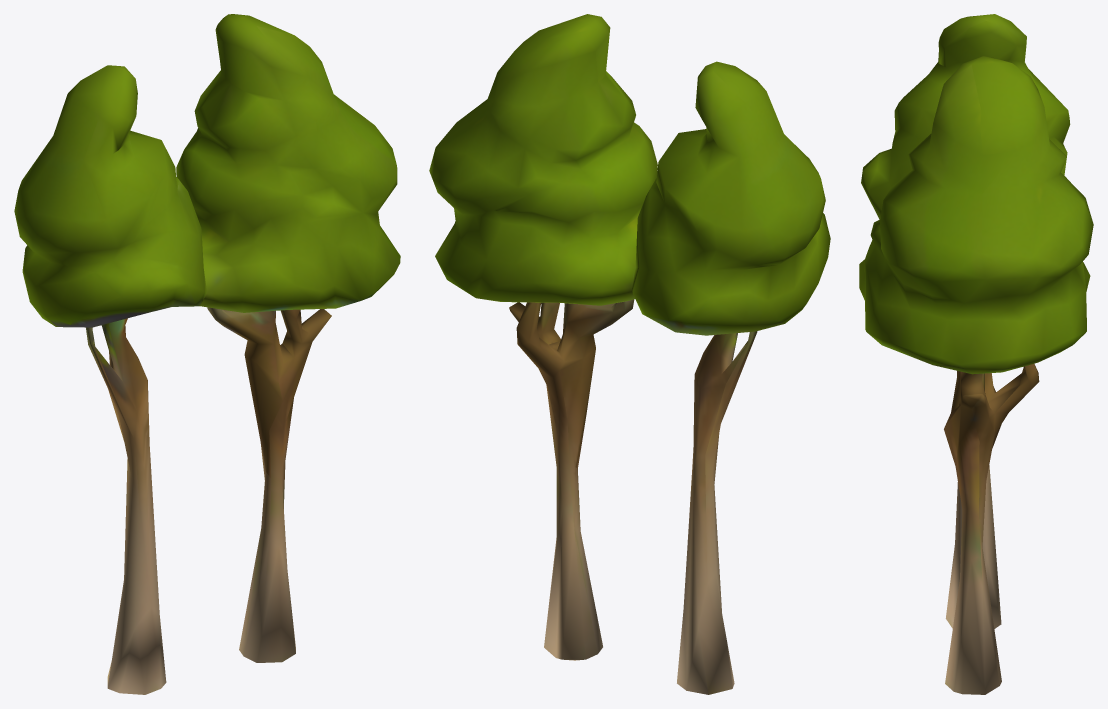
File: Tree04.fbx
The picture shows the model from 3 angles, left to right: view 1: azimuth 30°, elevation 25°; view 2: azimuth 150°, elevation 25°; view 3: azimuth 270°, elevation 25°; orthographic projection. The views are drawn at different scales.
Visible parts, largest first — view 1: node_0.002; view 2: node_0.002; view 3: node_0.002.
Part boxes in pixels (bbox=[...]): node_0.002: bbox=[14, 14, 400, 694]; node_0.002: bbox=[429, 14, 830, 694]; node_0.002: bbox=[859, 14, 1093, 694].
Bounding box in the file's own units: 18.12 × 30.79 × 10.62.
Materials: 1 (1 with a texture image).
